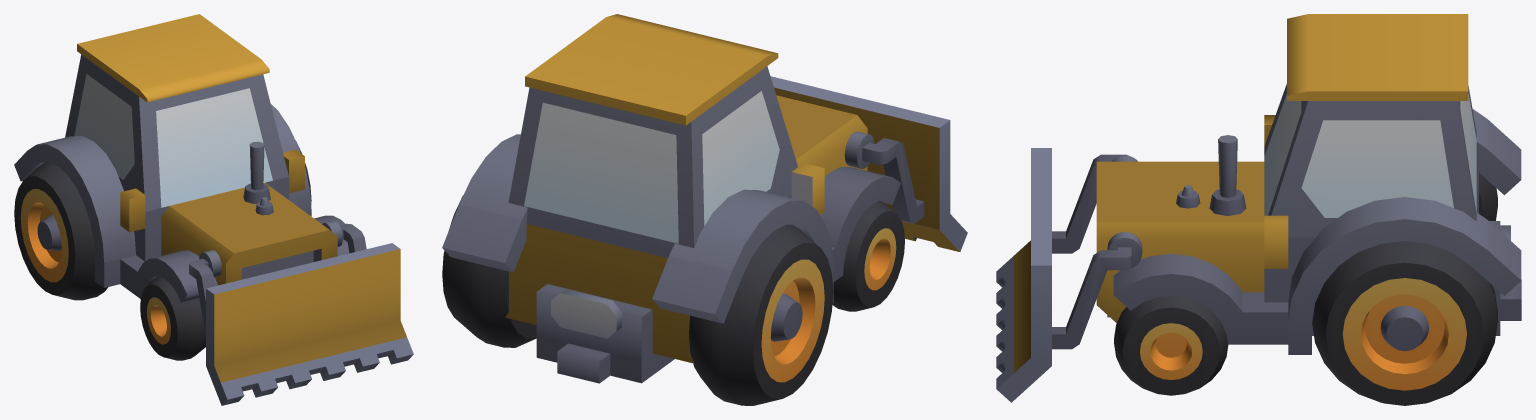
The model's file is escavadeira.glb.
3 views of the same model, side by side, from view 1: azimuth 30°, elevation 25°; view 2: azimuth 150°, elevation 25°; view 3: azimuth 270°, elevation 25° (orthographic). The views are drawn at different scales.
Visible parts, largest first — view 1: modelo; view 2: modelo; view 3: modelo.
Boxes of the visible parts, x1=… form: modelo: x1=14, y1=14, x2=413, y2=405; modelo: x1=442, y1=14, x2=967, y2=405; modelo: x1=996, y1=14, x2=1521, y2=405.
Bounding box in the file's own units: 1.41 × 1.29 × 2.1.
